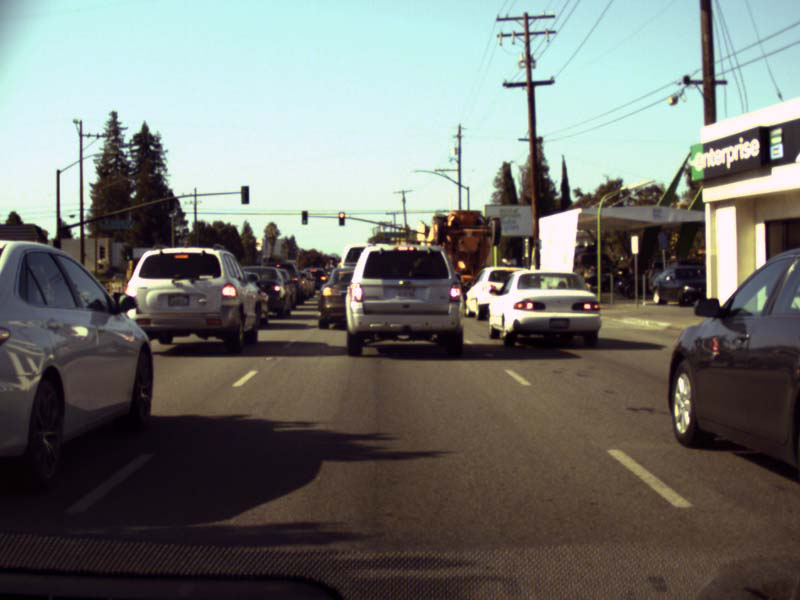Green: (301, 211, 307, 224), (125, 246, 130, 259)
Red: (338, 211, 344, 225)
